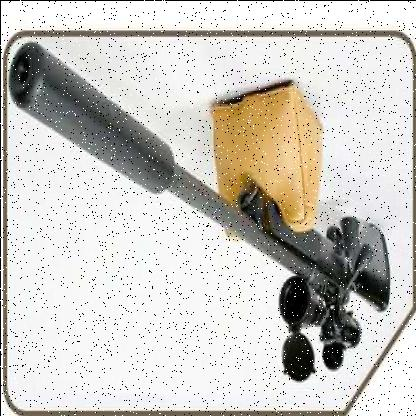rifle: (4, 28, 397, 382)
